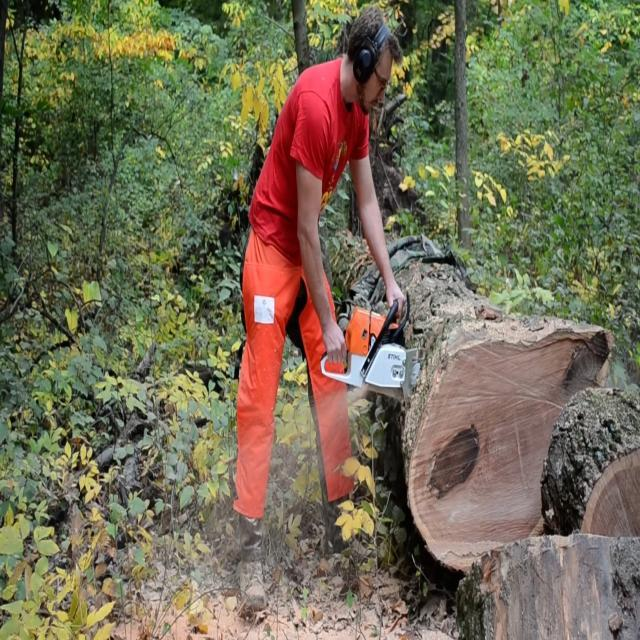Chainsaw: (303, 273, 445, 407)
